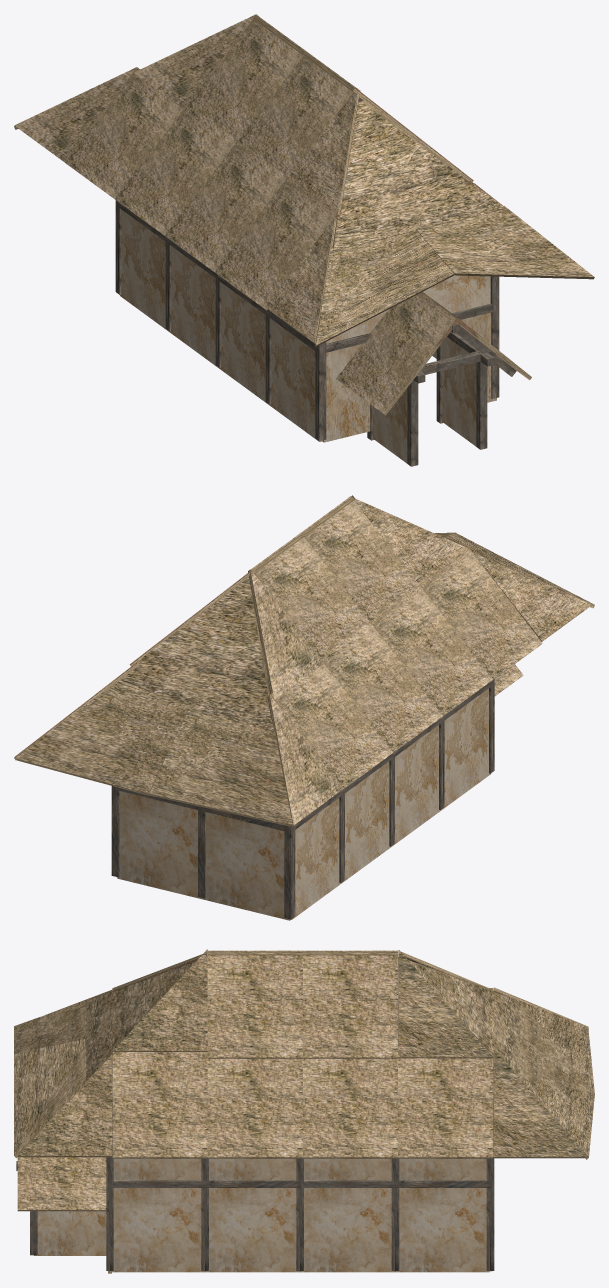
File: banque.glb
3 views of the same model, one above another, from view 1: azimuth 30°, elevation 25°; view 2: azimuth 150°, elevation 25°; view 3: azimuth 270°, elevation 25° (orthographic). The views are drawn at different scales.
Parts seen in each view (by area): view 1: Cube.001; view 2: Cube.001; view 3: Cube.001.
Part boxes in pixels (x1,y1,x2,y2): Cube.001: (14, 14, 594, 466); Cube.001: (14, 495, 594, 920); Cube.001: (14, 949, 594, 1273).
Size of the model in its own units: 16.24 by 16.86 by 30.54.
13 materials, 13 textured.
